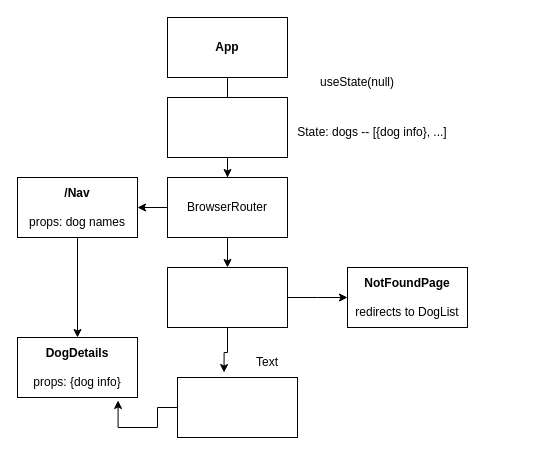
This 545x455 diagram has some shape labels left out. Here are the shapes that lost their labels. From the top down, the centre of each, then its label:
(227,127): DogFinderApp State : dogs
(227,297): RoutesList
(237,407): DogList
